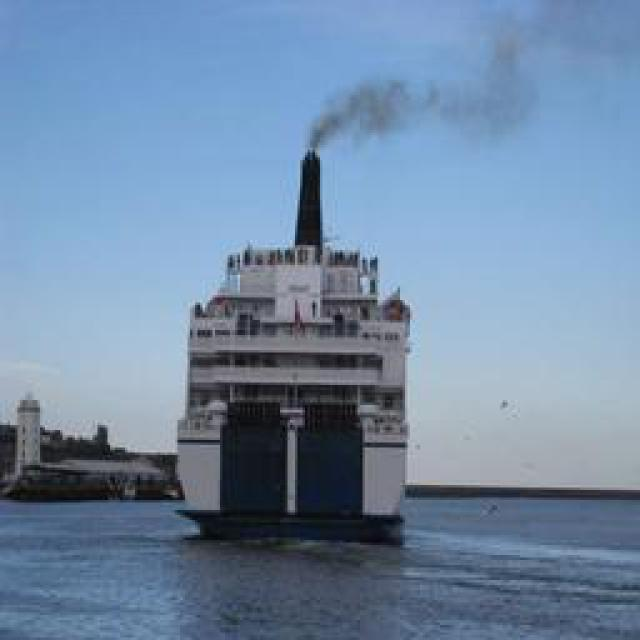Ship: (171, 149, 419, 534)
